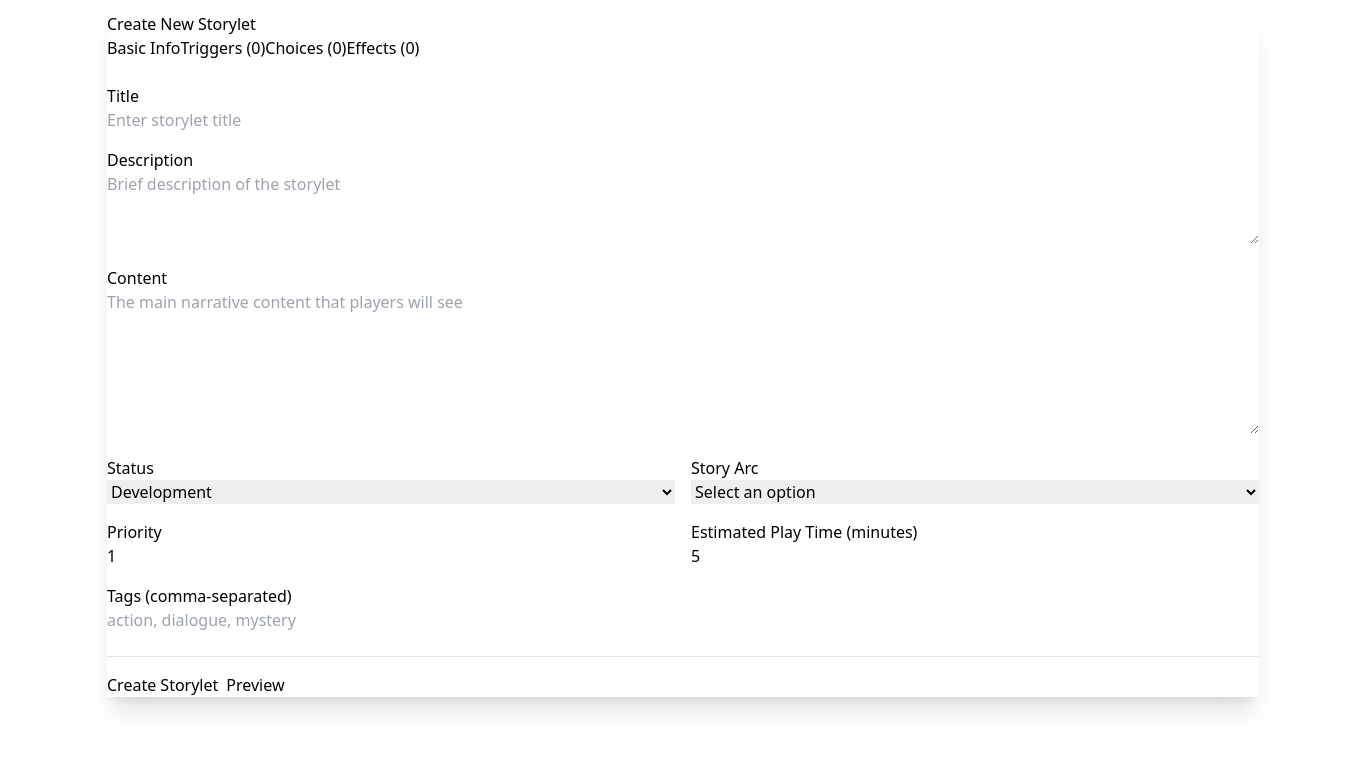
Scenario: AdvancedStoryletCreator › shows validation errors for empty required fields
# Try to save without filling required fields
Click the button "Create Storylet": coordinates (163, 685) [107, 673, 218, 697]
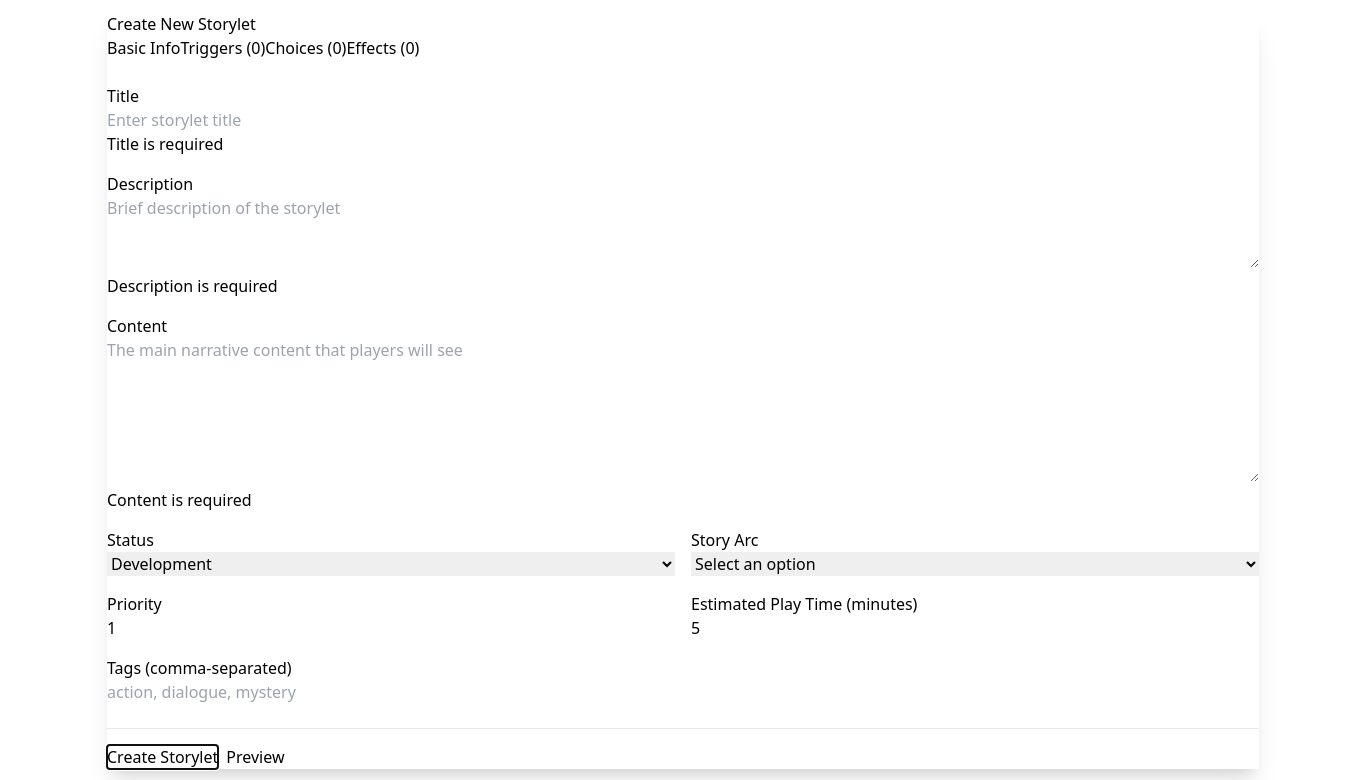
Expected: the text "Title is required" is shown, [107, 133, 223, 155]
Expected: the text "Description is required" is shown, [107, 275, 278, 297]
Expected: the text "Content is required" is shown, [107, 489, 252, 511]
